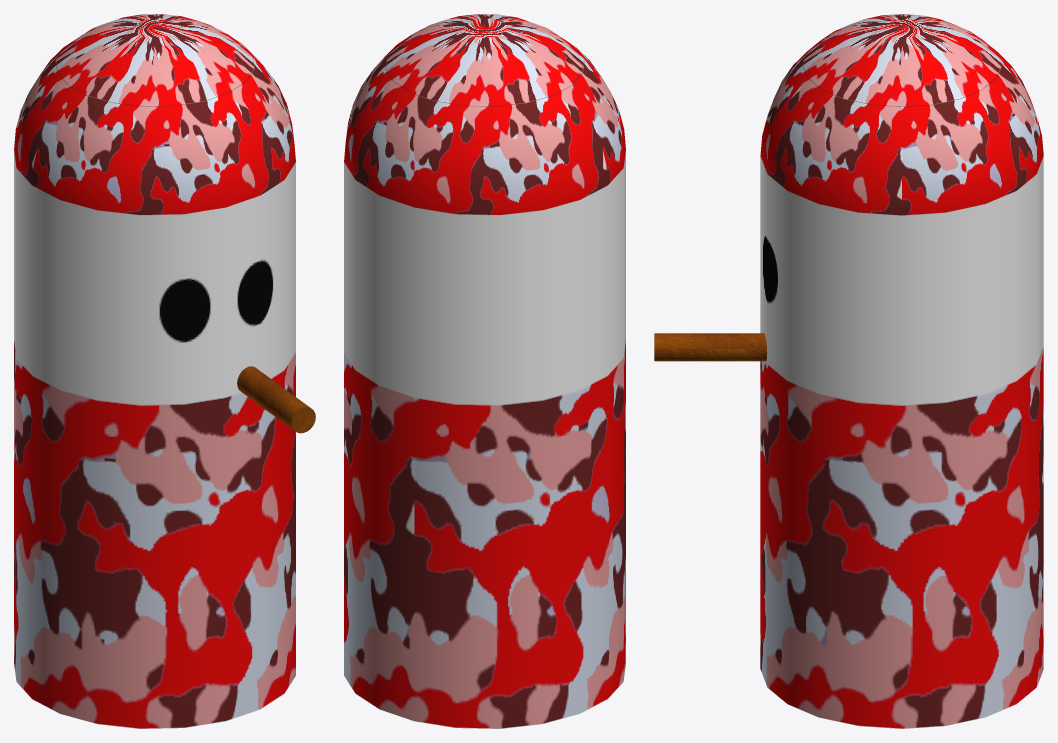
Rendered from soldierred.fbx.
3 renders of one model, left to right at view 1: azimuth 30°, elevation 25°; view 2: azimuth 150°, elevation 25°; view 3: azimuth 270°, elevation 25°, orthographic.
Parts seen in each view (by area): view 1: polySurface1, pCylinder2; view 2: polySurface1; view 3: polySurface1, pCylinder2.
Part boxes in pixels (left/top/right/bottom): polySurface1: left=14, top=14, right=295, bottom=728; pCylinder2: left=237, top=366, right=315, bottom=433; polySurface1: left=344, top=14, right=625, bottom=728; polySurface1: left=760, top=14, right=1043, bottom=728; pCylinder2: left=654, top=333, right=767, bottom=361.
Bounding box in the file's own units: 2 × 5 × 2.75.
Materials: 3 (3 with a texture image).
